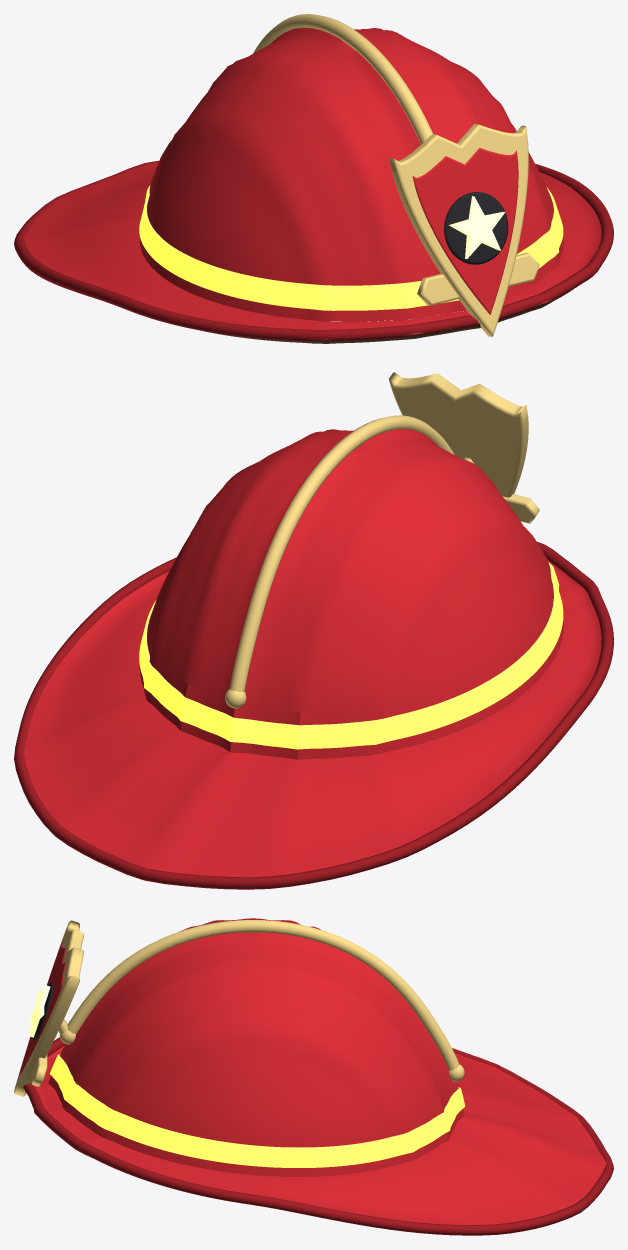
Rendered from fireman.glb.
The picture shows the model from 3 angles, top to bottom: view 1: azimuth 30°, elevation 25°; view 2: azimuth 150°, elevation 25°; view 3: azimuth 270°, elevation 25°; orthographic projection. The views are drawn at different scales.
Visible parts, largest first — view 1: fireman_body, glow_fireman_fire_reflect, pulse_fire_star; view 2: fireman_body, glow_fireman_fire_reflect; view 3: fireman_body, glow_fireman_fire_reflect, pulse_fire_star.
Part boxes in pixels (x1,y1,x2,y2): fireman_body: [14, 14, 613, 343]; glow_fireman_fire_reflect: [139, 186, 563, 310]; pulse_fire_star: [449, 196, 505, 258]; fireman_body: [14, 372, 613, 889]; glow_fireman_fire_reflect: [139, 562, 563, 749]; fireman_body: [14, 918, 613, 1235]; glow_fireman_fire_reflect: [50, 1054, 465, 1167]; pulse_fire_star: [29, 985, 50, 1037].
Bounding box in the file's own units: 1.76 × 1.04 × 2.24.
